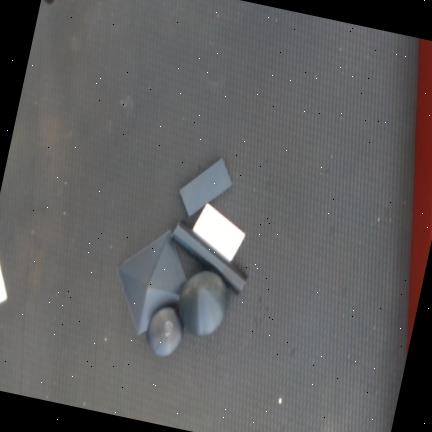Cilindro: (172, 221, 248, 296)
Esfera: (178, 271, 229, 336), (146, 307, 184, 357)
Paralelepipedo: (191, 202, 245, 264), (179, 158, 232, 218)
Piramide: (116, 230, 187, 336)
